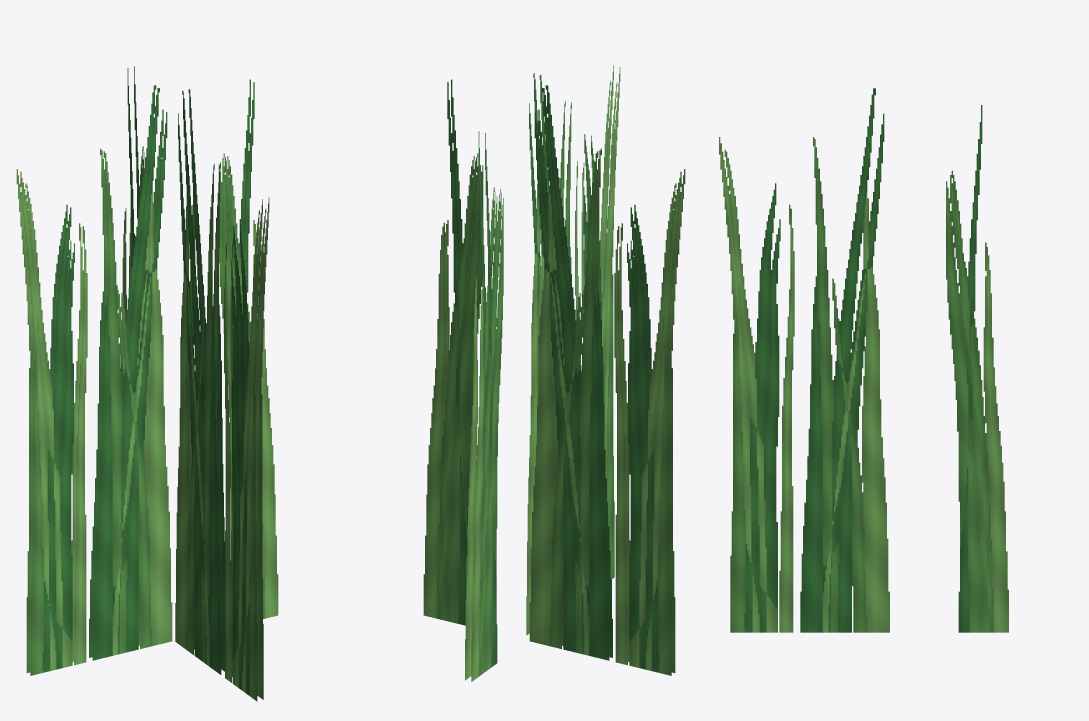
The model's file is GrassLow.glb.
The picture shows the model from 3 angles, left to right: view 1: azimuth 30°, elevation 25°; view 2: azimuth 150°, elevation 25°; view 3: azimuth 270°, elevation 25°; orthographic projection. The views are drawn at different scales.
Visible parts, largest first — view 1: GrassCrossCards; view 2: GrassCrossCards; view 3: GrassCrossCards.
Boxes of the visible parts, x1,y1,x2,y2 form: GrassCrossCards: [16, 66, 278, 701]; GrassCrossCards: [423, 65, 685, 681]; GrassCrossCards: [719, 88, 1008, 632].
Size of the model in its own units: 0.3 by 0.5 by 0.3.
1 material, 1 textured.
